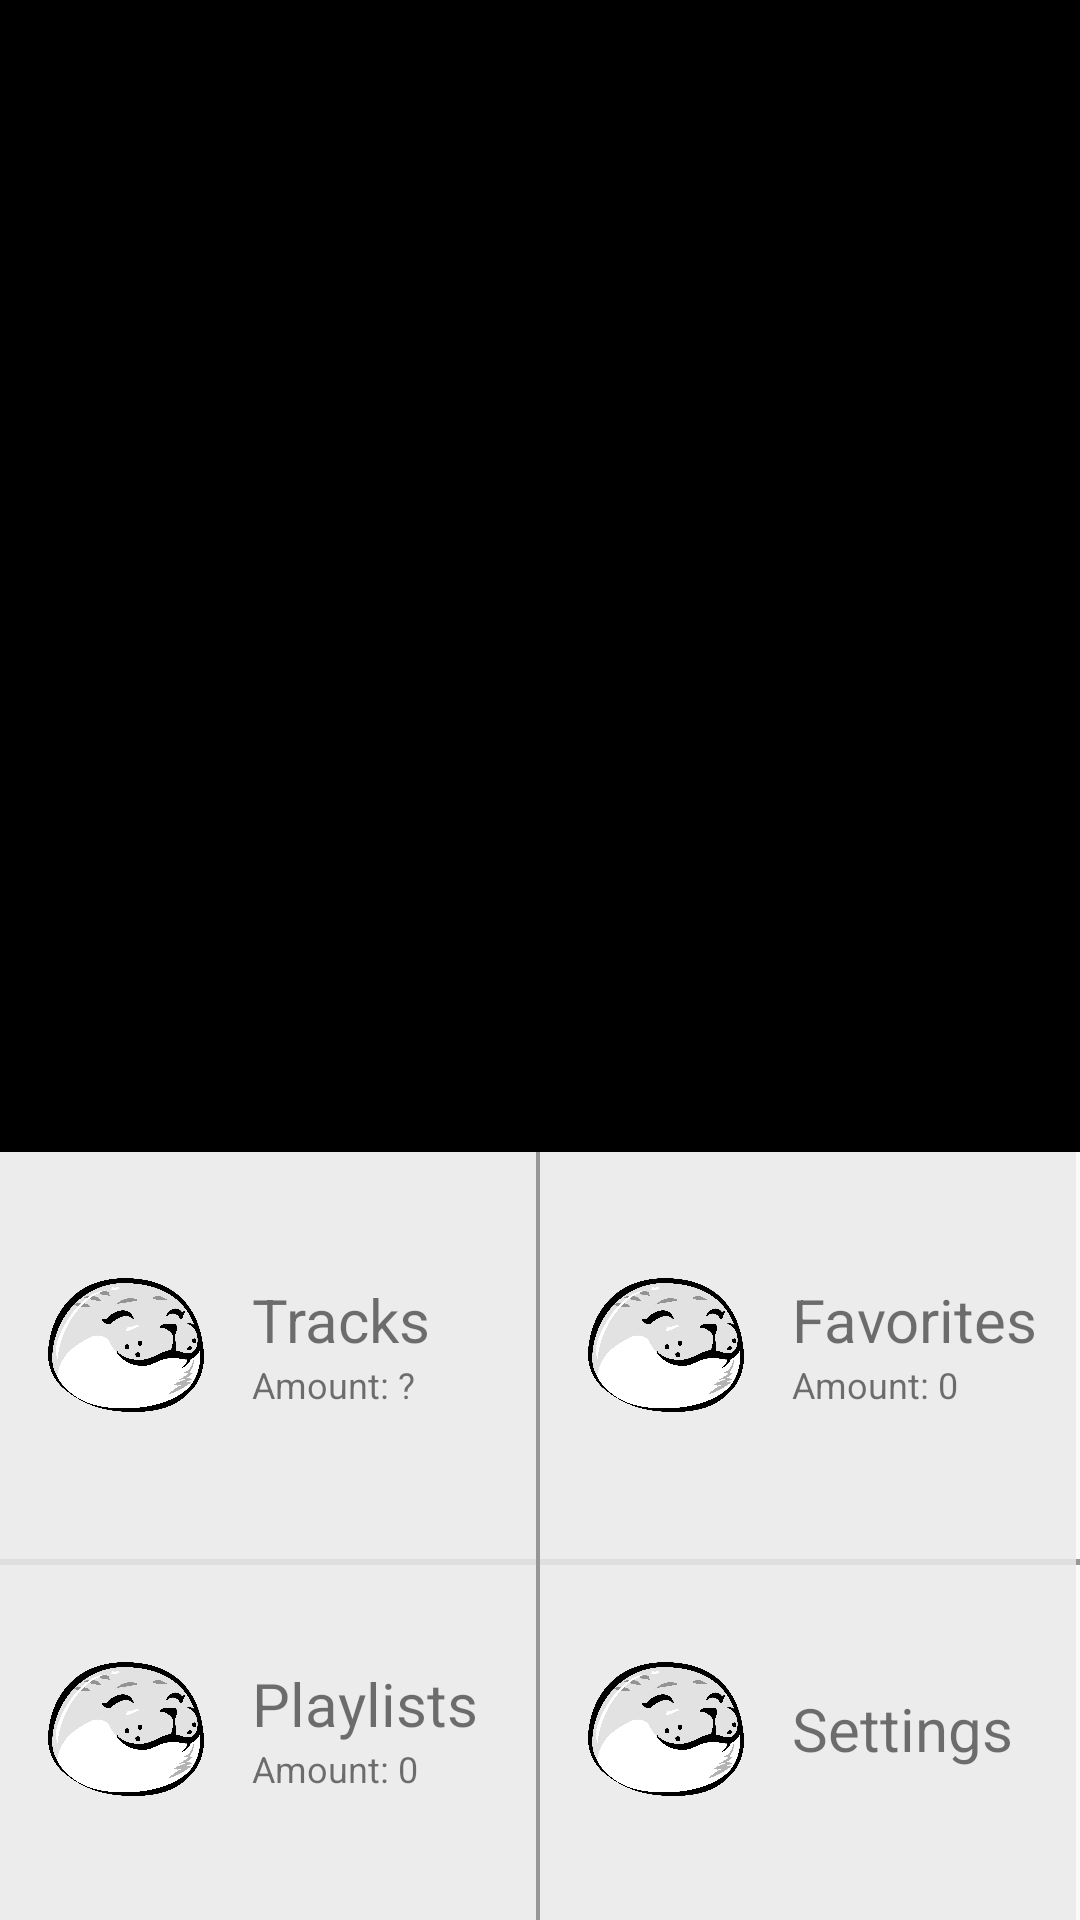

Where icons sit on this 1080px×1920px app screen, as (x1, y1, x2, y2):
wholesome: (48, 1278, 204, 1412), (588, 1278, 744, 1412), (48, 1662, 204, 1796), (588, 1662, 744, 1796)
